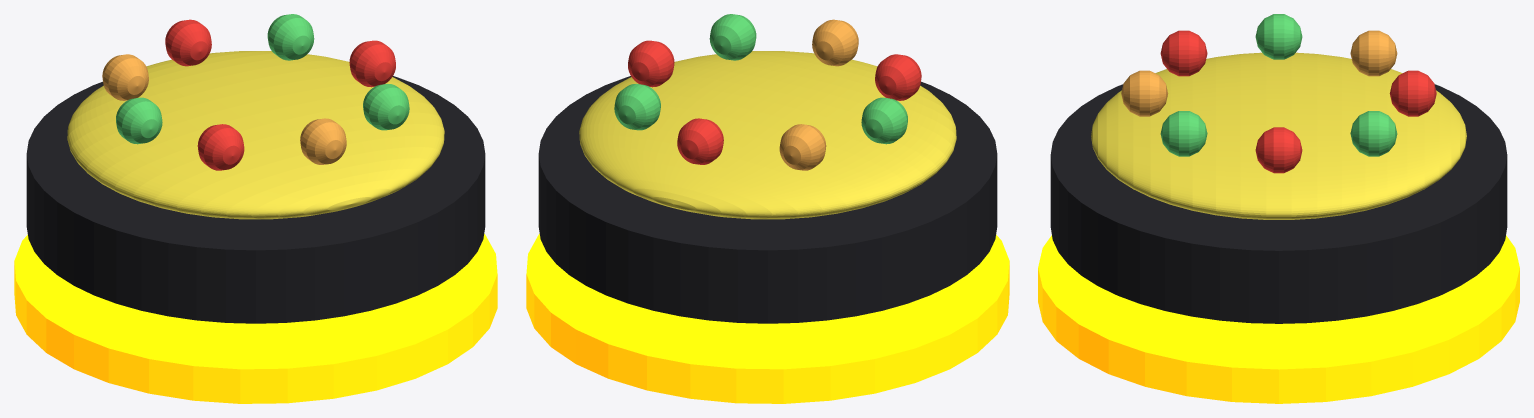
The model's file is spanish_paella.glb.
3 views of the same model, side by side, from view 1: azimuth 30°, elevation 25°; view 2: azimuth 150°, elevation 25°; view 3: azimuth 270°, elevation 25° (orthographic).
Visible parts, largest first — view 1: 11_04_Popular_Spanish_Paella_part_01, 11_04_Popular_Spanish_Paella_part_02, 11_04_Popular_Spanish_Paella_ROOT_base, 11_04_Popular_Spanish_Paella_part_04, 11_04_Popular_Spanish_Paella_part_05, 11_04_Popular_Spanish_Paella_part_06, 11_04_Popular_Spanish_Paella_part_10, 11_04_Popular_Spanish_Paella_part_09, 11_04_Popular_Spanish_Paella_part_03, 11_04_Popular_Spanish_Paella_part_07, 11_04_Popular_Spanish_Paella_part_08; view 2: 11_04_Popular_Spanish_Paella_part_01, 11_04_Popular_Spanish_Paella_part_02, 11_04_Popular_Spanish_Paella_ROOT_base, 11_04_Popular_Spanish_Paella_part_08, 11_04_Popular_Spanish_Paella_part_09, 11_04_Popular_Spanish_Paella_part_10, 11_04_Popular_Spanish_Paella_part_04, 11_04_Popular_Spanish_Paella_part_05, 11_04_Popular_Spanish_Paella_part_03, 11_04_Popular_Spanish_Paella_part_07, 11_04_Popular_Spanish_Paella_part_06; view 3: 11_04_Popular_Spanish_Paella_part_01, 11_04_Popular_Spanish_Paella_part_02, 11_04_Popular_Spanish_Paella_ROOT_base, 11_04_Popular_Spanish_Paella_part_06, 11_04_Popular_Spanish_Paella_part_08, 11_04_Popular_Spanish_Paella_part_03, 11_04_Popular_Spanish_Paella_part_05, 11_04_Popular_Spanish_Paella_part_09, 11_04_Popular_Spanish_Paella_part_07, 11_04_Popular_Spanish_Paella_part_04, 11_04_Popular_Spanish_Paella_part_10.
Boxes of the visible parts, x1,y1,x2,y2 form: 11_04_Popular_Spanish_Paella_part_01: [26, 76, 485, 323]; 11_04_Popular_Spanish_Paella_part_02: [67, 51, 444, 219]; 11_04_Popular_Spanish_Paella_ROOT_base: [14, 234, 497, 403]; 11_04_Popular_Spanish_Paella_part_04: [363, 84, 409, 130]; 11_04_Popular_Spanish_Paella_part_05: [300, 118, 346, 164]; 11_04_Popular_Spanish_Paella_part_06: [197, 124, 244, 170]; 11_04_Popular_Spanish_Paella_part_10: [267, 14, 314, 60]; 11_04_Popular_Spanish_Paella_part_09: [165, 19, 211, 66]; 11_04_Popular_Spanish_Paella_part_03: [349, 40, 395, 87]; 11_04_Popular_Spanish_Paella_part_07: [116, 97, 162, 144]; 11_04_Popular_Spanish_Paella_part_08: [102, 54, 148, 100]; 11_04_Popular_Spanish_Paella_part_01: [538, 76, 997, 323]; 11_04_Popular_Spanish_Paella_part_02: [579, 51, 956, 219]; 11_04_Popular_Spanish_Paella_ROOT_base: [526, 234, 1009, 403]; 11_04_Popular_Spanish_Paella_part_08: [779, 124, 826, 170]; 11_04_Popular_Spanish_Paella_part_09: [677, 118, 723, 164]; 11_04_Popular_Spanish_Paella_part_10: [614, 84, 660, 130]; 11_04_Popular_Spanish_Paella_part_04: [709, 14, 756, 60]; 11_04_Popular_Spanish_Paella_part_05: [812, 19, 858, 66]; 11_04_Popular_Spanish_Paella_part_03: [628, 40, 674, 87]; 11_04_Popular_Spanish_Paella_part_07: [861, 97, 907, 144]; 11_04_Popular_Spanish_Paella_part_06: [875, 54, 921, 100]; 11_04_Popular_Spanish_Paella_part_01: [1050, 84, 1507, 323]; 11_04_Popular_Spanish_Paella_part_02: [1091, 52, 1466, 219]; 11_04_Popular_Spanish_Paella_ROOT_base: [1038, 235, 1519, 403]; 11_04_Popular_Spanish_Paella_part_06: [1160, 30, 1207, 76]; 11_04_Popular_Spanish_Paella_part_08: [1350, 30, 1397, 76]; 11_04_Popular_Spanish_Paella_part_03: [1255, 127, 1302, 173]; 11_04_Popular_Spanish_Paella_part_05: [1121, 70, 1168, 116]; 11_04_Popular_Spanish_Paella_part_09: [1389, 70, 1436, 116]; 11_04_Popular_Spanish_Paella_part_07: [1255, 14, 1302, 59]; 11_04_Popular_Spanish_Paella_part_04: [1160, 111, 1207, 156]; 11_04_Popular_Spanish_Paella_part_10: [1350, 111, 1397, 156].
Bounding box in the file's own units: 0.76 × 0.3991 × 0.76.
